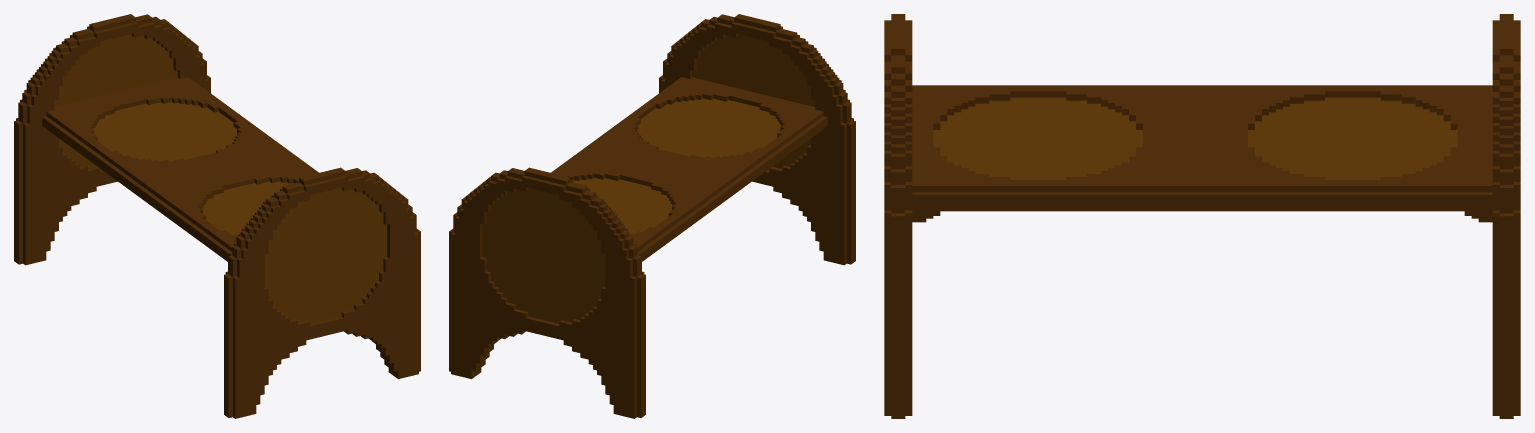
Rendered from marche.obj.
The picture shows the model from 3 angles, left to right: view 1: azimuth 30°, elevation 25°; view 2: azimuth 150°, elevation 25°; view 3: azimuth 270°, elevation 25°; orthographic projection. The views are drawn at different scales.
Size of the model in its own units: 46 by 50 by 91.
Materials: 1 (1 with a texture image).
